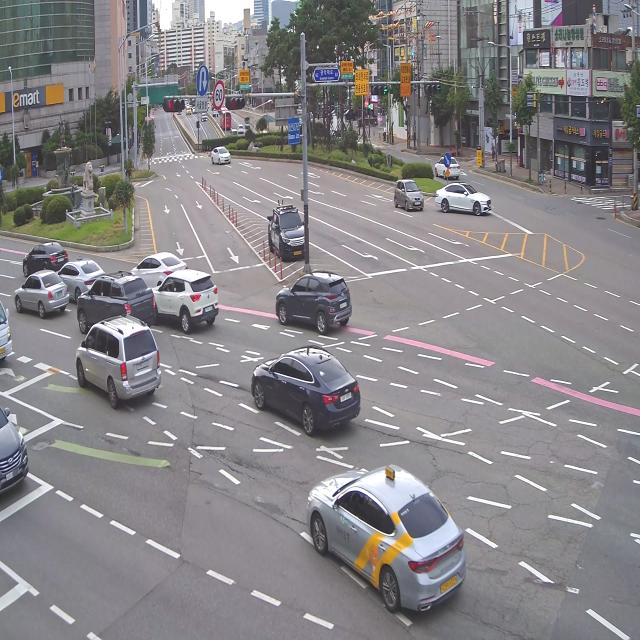Bus: (219, 105, 234, 133)
Car: (293, 452, 475, 626), (227, 332, 364, 444), (70, 307, 166, 416), (271, 265, 357, 336), (147, 262, 220, 336), (10, 263, 75, 324), (262, 201, 310, 268), (436, 171, 494, 223), (388, 171, 433, 221), (21, 238, 66, 277), (54, 257, 100, 292), (430, 143, 461, 180), (205, 142, 236, 174)
